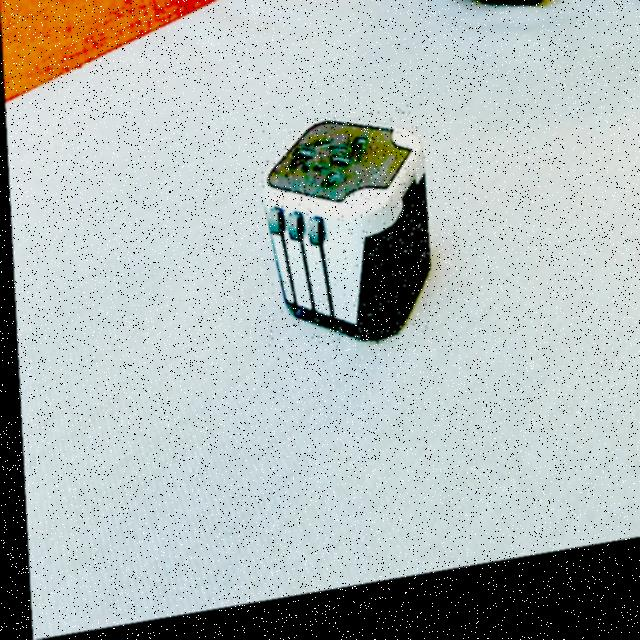adapter: (256, 116, 431, 370)
